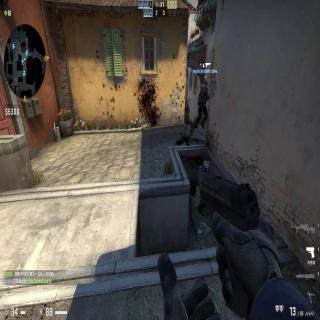CT-Body: (194, 80, 208, 130)
CT-Head: (203, 80, 207, 88)
T-Head: (203, 157, 210, 169)
